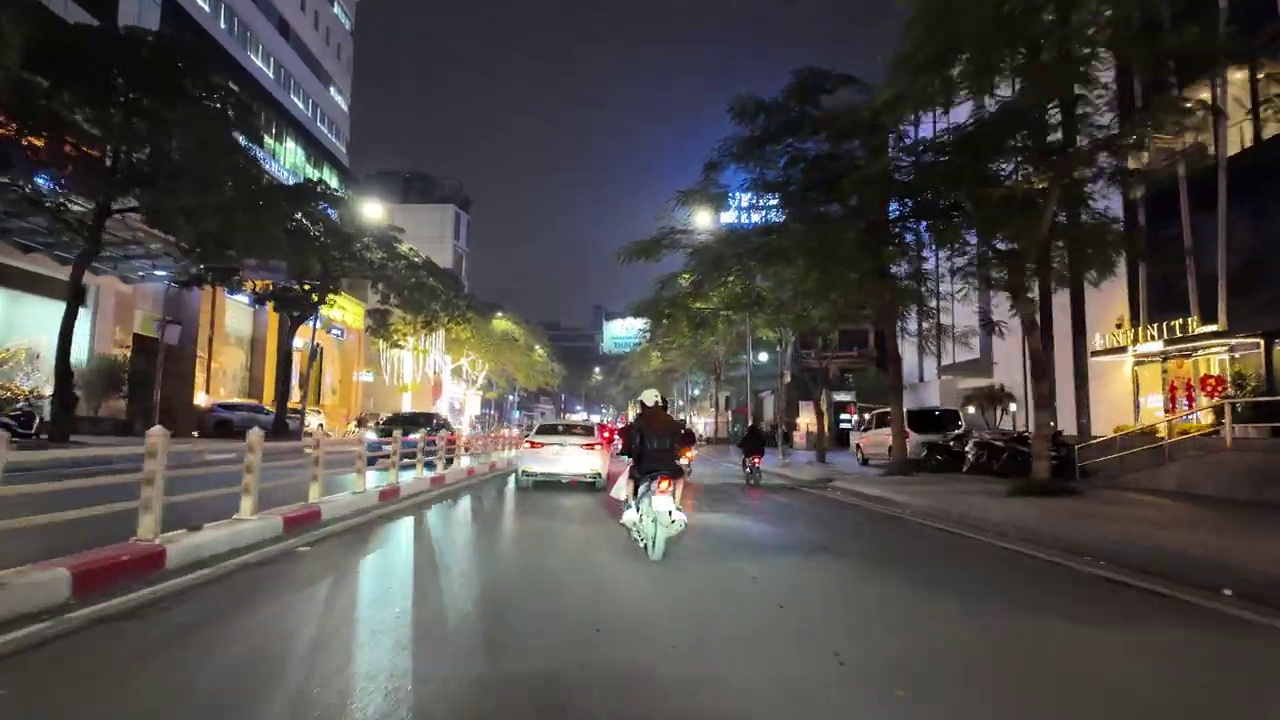acesa: (356, 198, 390, 228), (688, 201, 718, 233), (492, 314, 516, 334)
